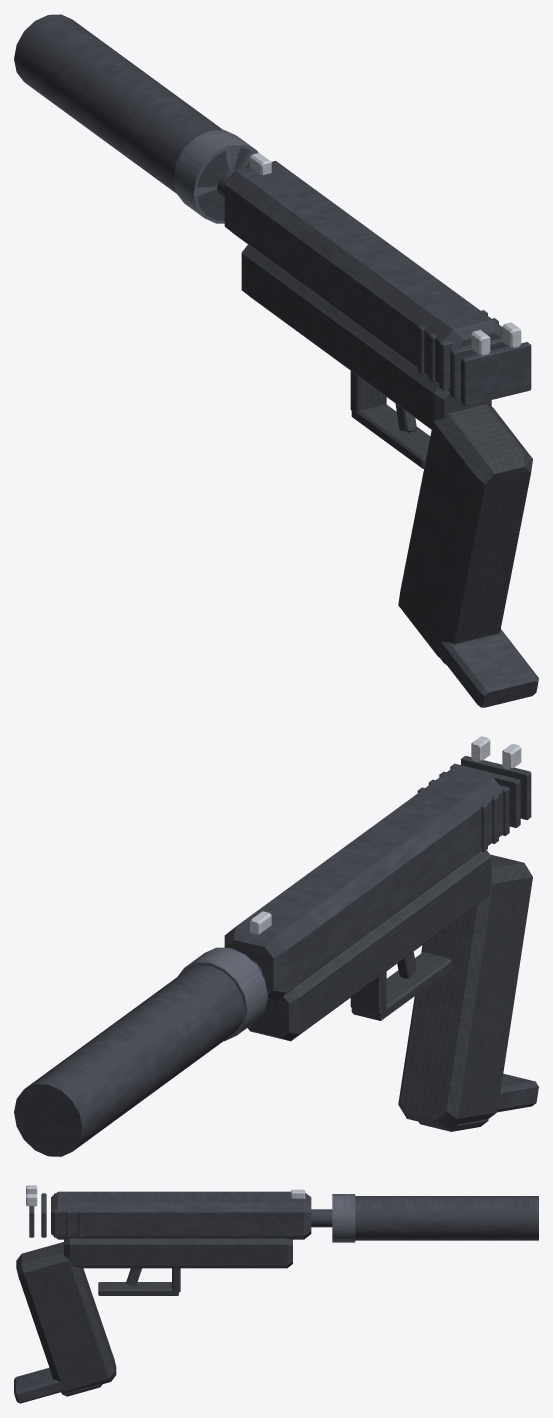
The model's file is weapon_usp.glb.
3 renders of one model, top to bottom at view 1: azimuth 30°, elevation 25°; view 2: azimuth 150°, elevation 25°; view 3: azimuth 270°, elevation 25°, orthographic. The views are drawn at different scales.
Parts seen in each view (by area): view 1: WeaponRoot, Bolt, Magazine; view 2: WeaponRoot, Bolt, Magazine; view 3: WeaponRoot, Bolt, Magazine.
Part boxes in pixels (x1,y1,x2,y2): WeaponRoot: (14, 14, 532, 659); Bolt: (224, 153, 531, 406); Magazine: (439, 629, 538, 707); WeaponRoot: (14, 850, 532, 1156); Bolt: (224, 736, 531, 1001); Magazine: (419, 1073, 538, 1131); WeaponRoot: (16, 1194, 538, 1393); Bolt: (26, 1185, 311, 1239); Magazine: (14, 1367, 102, 1403).
Bounding box in the file's own units: 0.0336 × 0.1573 × 0.3632.
Materials: 4 (4 with a texture image).
